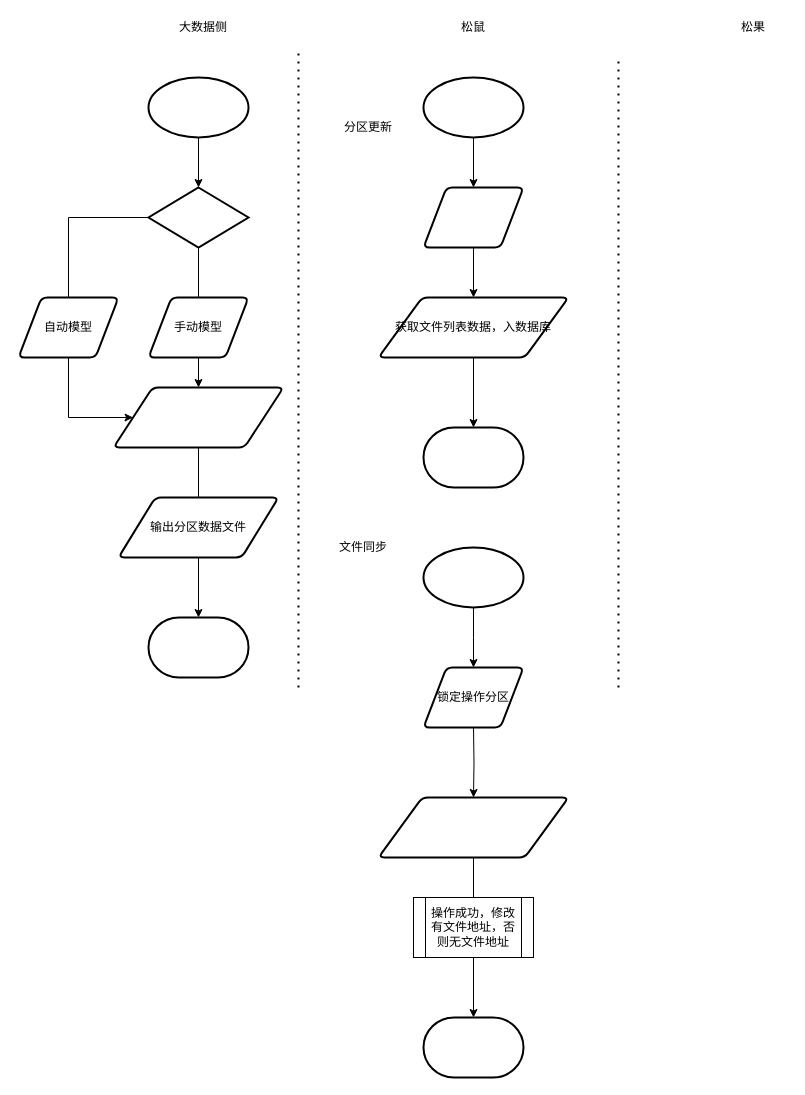
This 805x1095 diagram has some shape labels left out. The shapes that lost their labels are listed below. From the top down, each one's box as (x1, y1, x2, y2) in pixels, then its label:
(422, 186, 524, 248): HIVE库查询
(112, 386, 284, 448): 大数据任务调度
(377, 796, 569, 858): 获取对应分区文件，入松果oss，生成fdfs文件地址
